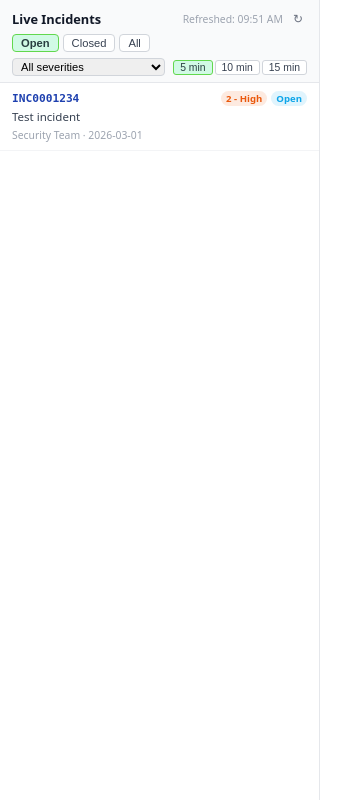
Scenario: IncidentListPanel › collapses already-expanded row on second click
# First click — expand
Click the text "INC0001234": {"x": 46, "y": 98} [12,92,79,105]
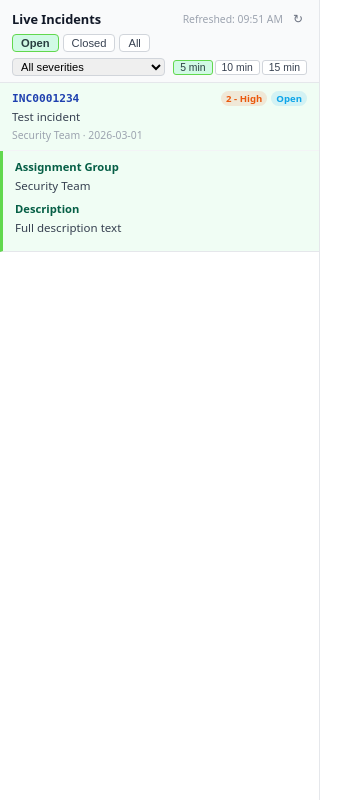
Check: the text "Full description text" is shown, box [15,220,121,235]
# Second click — collapse
Click the text "INC0001234": {"x": 46, "y": 98} [12,92,79,105]
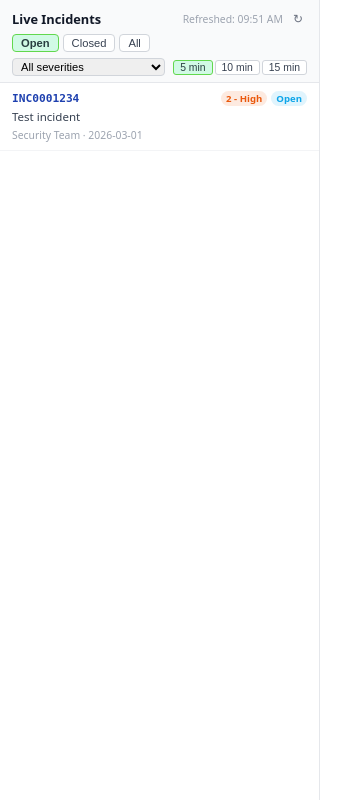
Check: the text "Full description text" is gone
